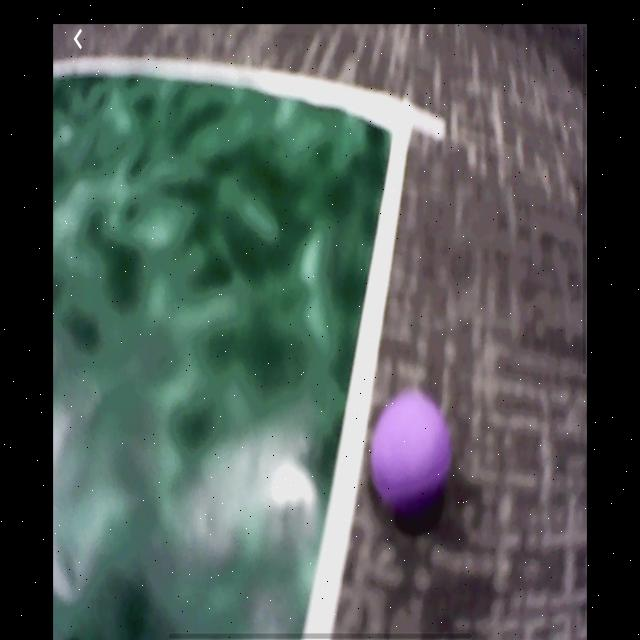ball: (370, 386, 454, 535)
